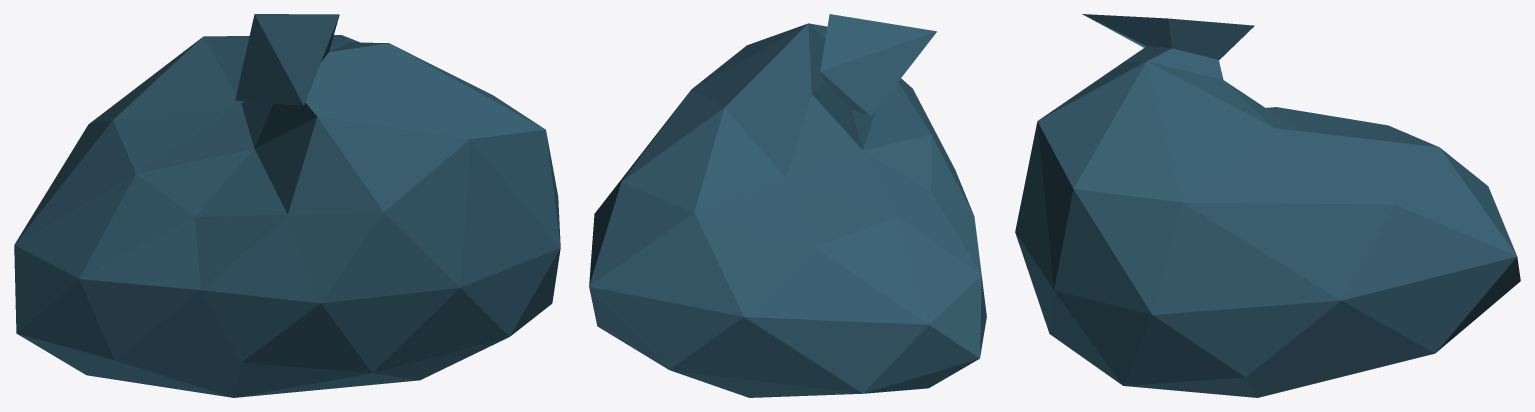
Rendered from Mavi Büyük Çöp.fbx.
The picture shows the model from 3 angles, left to right: view 1: azimuth 30°, elevation 25°; view 2: azimuth 150°, elevation 25°; view 3: azimuth 270°, elevation 25°; orthographic projection. The views are drawn at different scales.
Parts seen in each view (by area): view 1: Icosphere.002; view 2: Icosphere.002; view 3: Icosphere.002.
Part boxes in pixels (x1,y1,x2,y2): Icosphere.002: (14,14,560,397); Icosphere.002: (589,14,986,397); Icosphere.002: (1015,14,1520,397).
Size of the model in its own units: 312 by 247 by 328.
